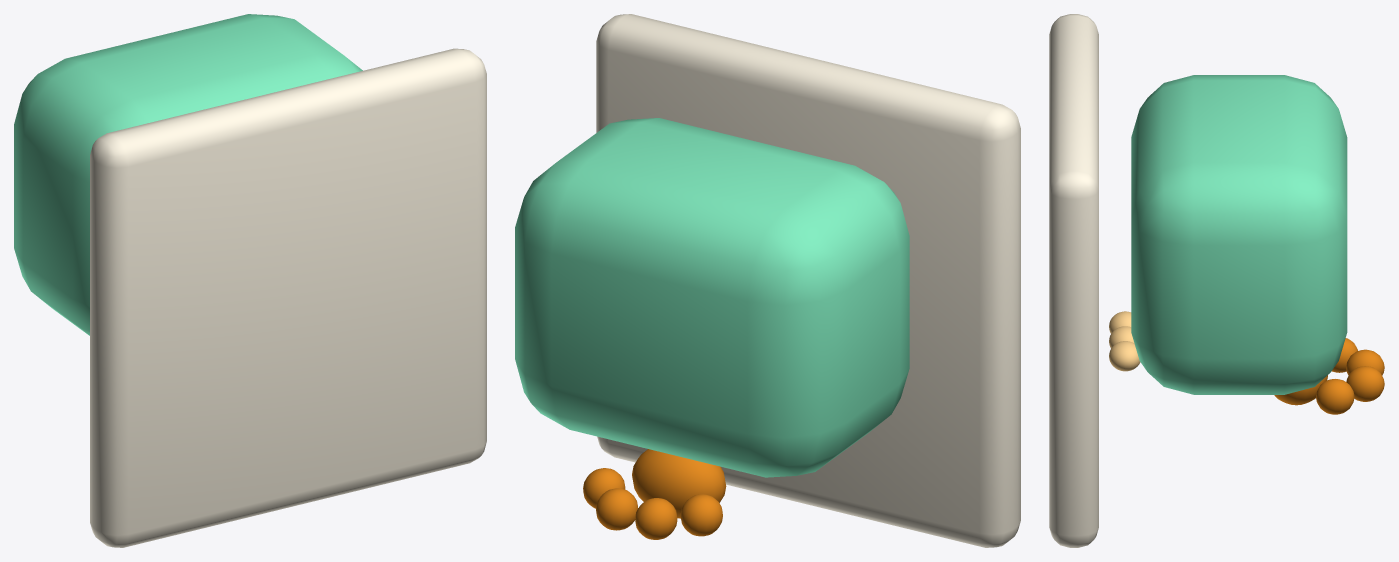
Rendered from TreatJar_Premium.fbx.
3 renders of one model, left to right at view 1: azimuth 30°, elevation 25°; view 2: azimuth 150°, elevation 25°; view 3: azimuth 270°, elevation 25°, orthographic. The views are drawn at different scales.
Visible parts, largest first — view 1: TreatJar_Body; view 2: TreatJar_Body; view 3: TreatJar_Body.
Part boxes in pixels (left/top/right/bottom): TreatJar_Body: left=14, top=14, right=486, bottom=547; TreatJar_Body: left=515, top=14, right=1020, bottom=547; TreatJar_Body: left=1049, top=14, right=1384, bottom=547.
Size of the model in its own units: 0.361 by 0.3648 by 0.2959.
